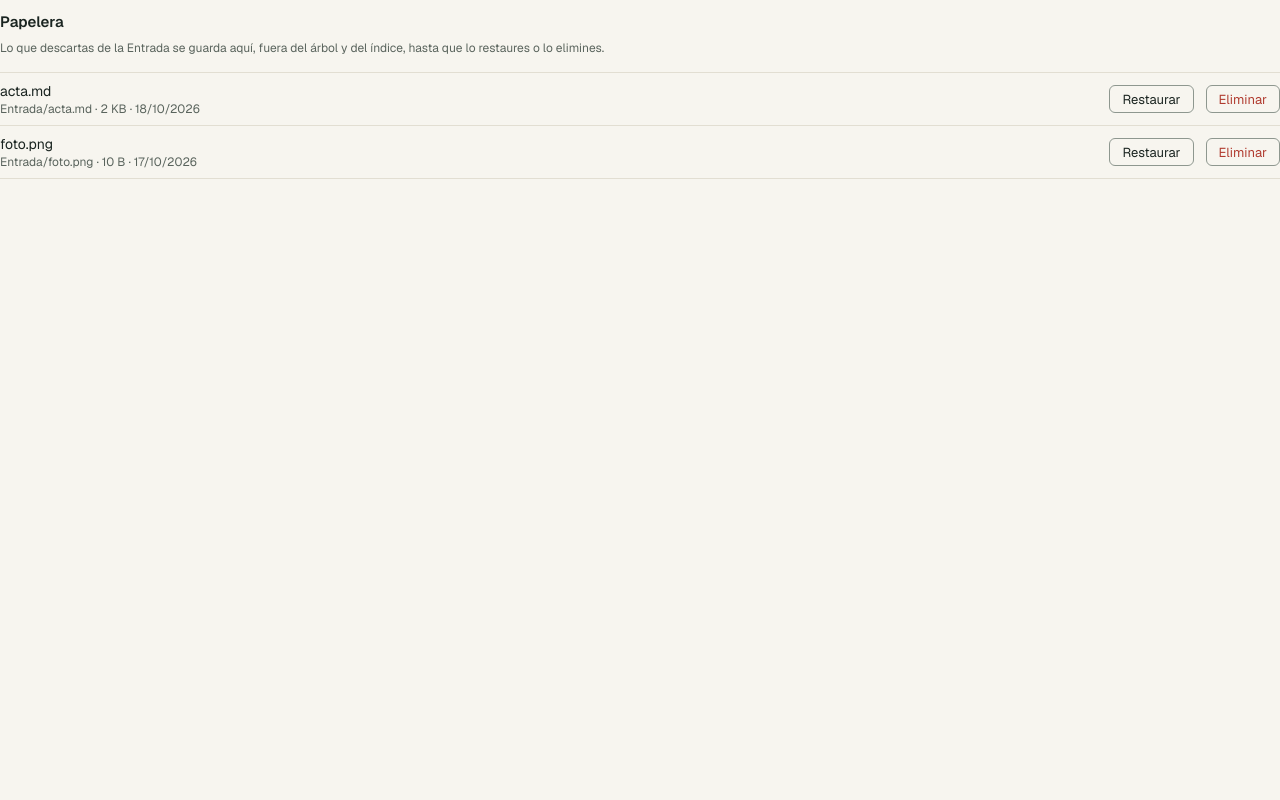
Test: Trash (Papelera) › asks before deleting permanently
Step 1. Click the button with test id "delete-1" → {"x": 1243, "y": 152}, box [1206,138,1279,166]
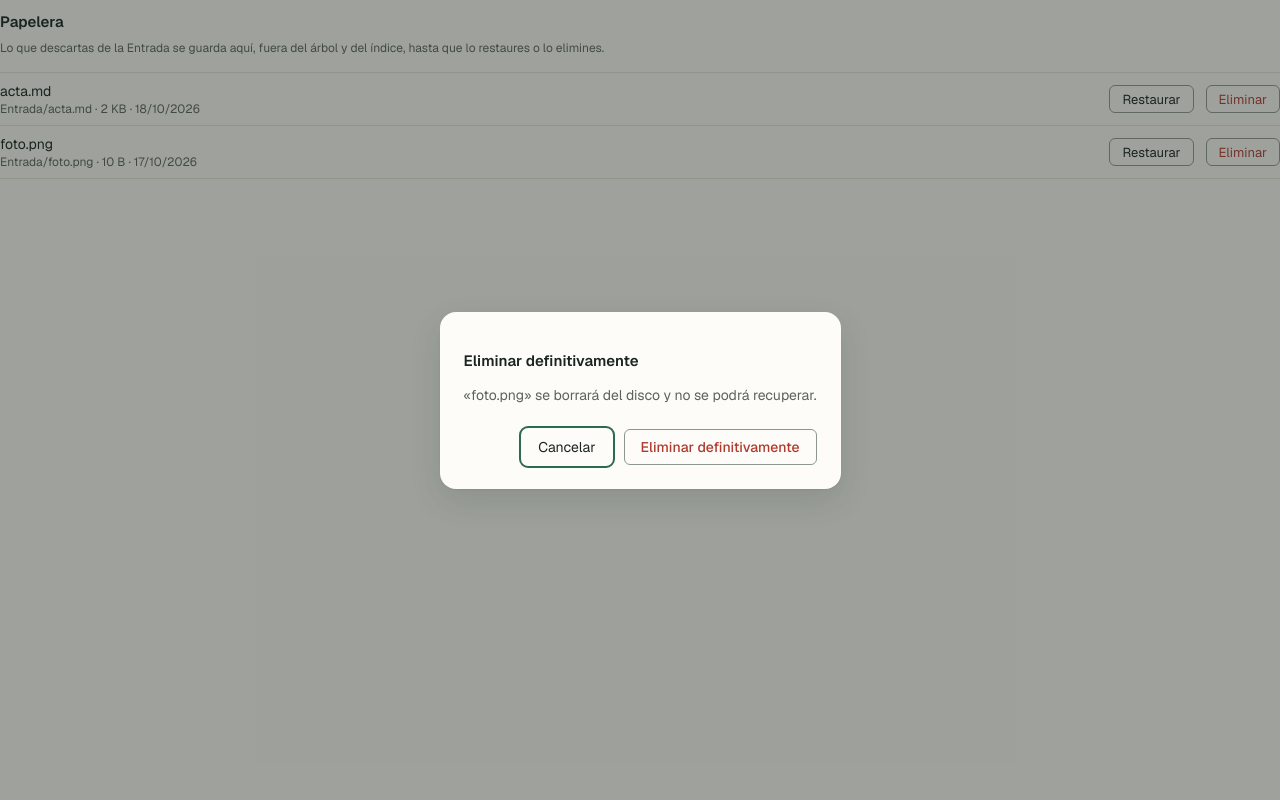
Step 2. Click the button "Eliminar definitivamente" → {"x": 720, "y": 446}, box [624,428,816,464]
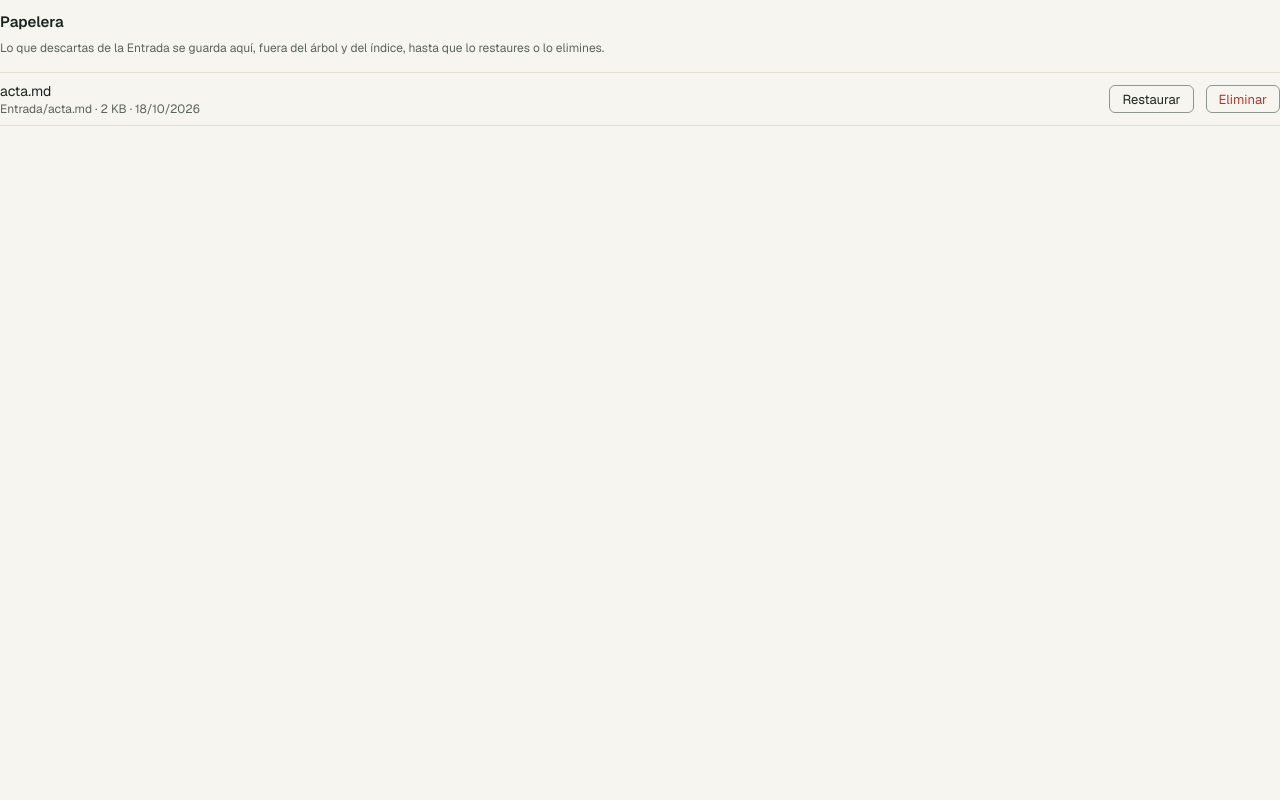
Check: the list item with test id "trash-item-2" is shown, box [0,73,1279,126]
Check: the list item with test id "trash-item-1" is gone
